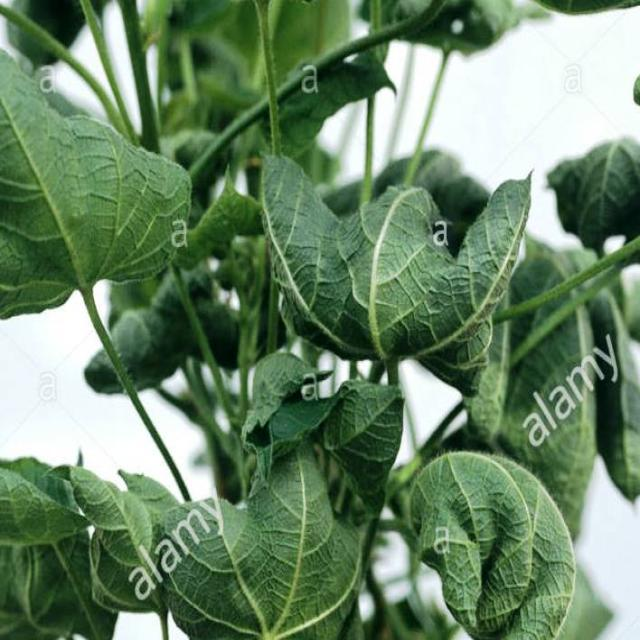Leaf Curl Virus: (75, 94, 517, 640)
